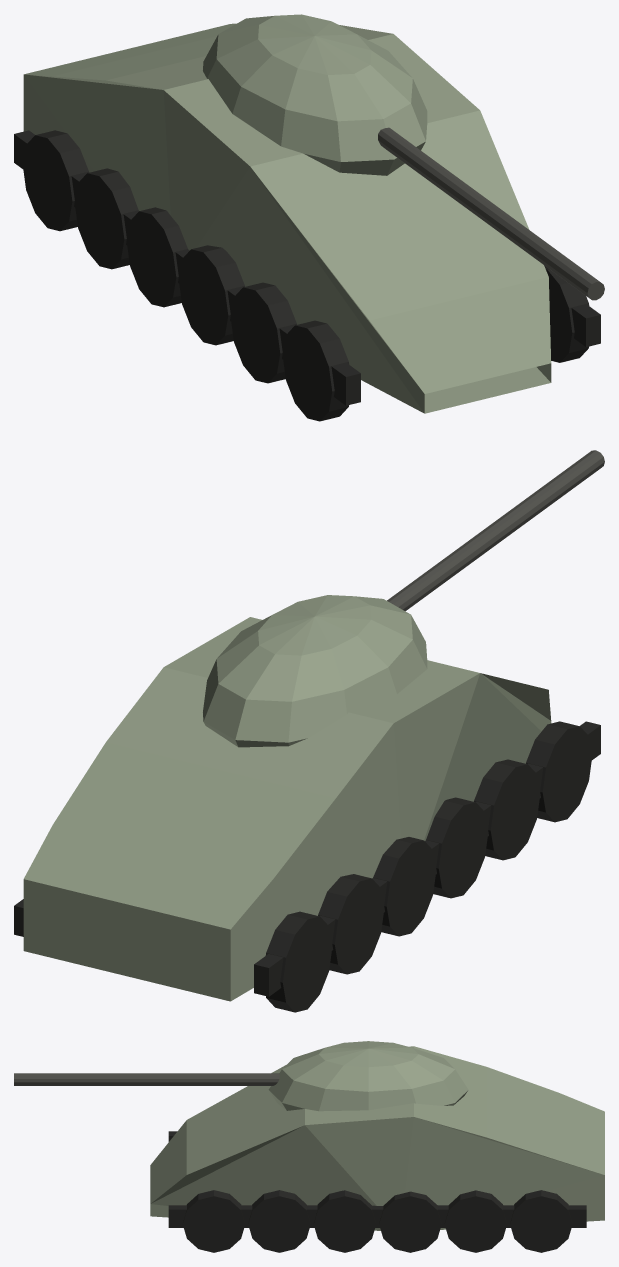
Rendered from hawk.glb.
3 renders of one model, top to bottom at view 1: azimuth 30°, elevation 25°; view 2: azimuth 150°, elevation 25°; view 3: azimuth 270°, elevation 25°, orthographic. The views are drawn at different scales.
Visible parts, largest first — view 1: Hull, Turret, Gun, Wheel_L_01, Wheel_L_02, Wheel_L_06, Wheel_L_03, Wheel_L_05, Wheel_L_04, Wheel_R_01, Track_L, Track_R; view 2: Hull, Turret, Gun, Wheel_L_06, Wheel_L_01, Wheel_L_02, Wheel_L_05, Wheel_L_03, Wheel_L_04, Track_L; view 3: Hull, Turret, Gun, Wheel_R_06, Wheel_R_02, Wheel_R_01, Wheel_R_05, Wheel_R_03, Wheel_R_04, Track_R.
Boxes of the visible parts, x1=… form: Hull: x1=23, y1=23, x2=551, y2=413; Turret: x1=203, y1=14, x2=427, y2=175; Gun: x1=378, y1=127, x2=604, y2=300; Wheel_L_01: x1=282, y1=320, x2=349, y2=421; Wheel_L_02: x1=230, y1=282, x2=296, y2=383; Wheel_L_06: x1=22, y1=130, x2=89, y2=231; Wheel_L_03: x1=178, y1=245, x2=244, y2=345; Wheel_L_05: x1=74, y1=168, x2=138, y2=269; Wheel_L_04: x1=126, y1=207, x2=187, y2=307; Wheel_R_01: x1=544, y1=265, x2=589, y2=362; Track_L: x1=14, y1=130, x2=360, y2=405; Track_R: x1=571, y1=304, x2=600, y2=346; Hull: x1=23, y1=617, x2=551, y2=1001; Turret: x1=203, y1=595, x2=427, y2=747; Gun: x1=387, y1=450, x2=604, y2=611; Wheel_L_06: x1=265, y1=911, x2=332, y2=1012; Wheel_L_01: x1=526, y1=721, x2=592, y2=822; Wheel_L_02: x1=474, y1=759, x2=540, y2=860; Wheel_L_05: x1=318, y1=874, x2=384, y2=974; Wheel_L_03: x1=426, y1=797, x2=488, y2=898; Wheel_L_04: x1=373, y1=837, x2=436, y2=936; Track_L: x1=254, y1=721, x2=600, y2=996; Hull: x1=150, y1=1046, x2=604, y2=1230; Turret: x1=268, y1=1041, x2=468, y2=1111; Gun: x1=14, y1=1073, x2=279, y2=1085; Wheel_R_06: x1=510, y1=1190, x2=572, y2=1252; Wheel_R_02: x1=248, y1=1190, x2=310, y2=1252; Wheel_R_01: x1=182, y1=1190, x2=245, y2=1252; Wheel_R_05: x1=444, y1=1190, x2=507, y2=1252; Wheel_R_03: x1=313, y1=1190, x2=376, y2=1252; Wheel_R_04: x1=379, y1=1191, x2=441, y2=1252; Track_R: x1=168, y1=1205, x2=586, y2=1227.
Bounding box in the file's own units: 2.08 × 1.99 × 6.5.
